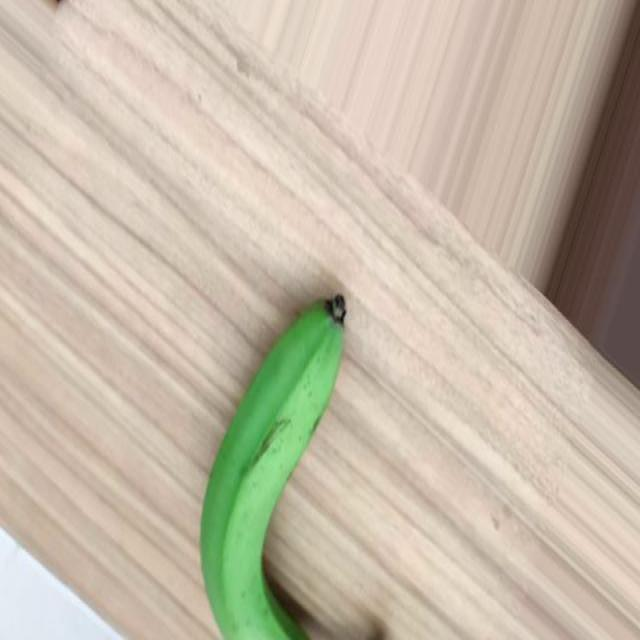Unripe: (199, 291, 349, 640)
